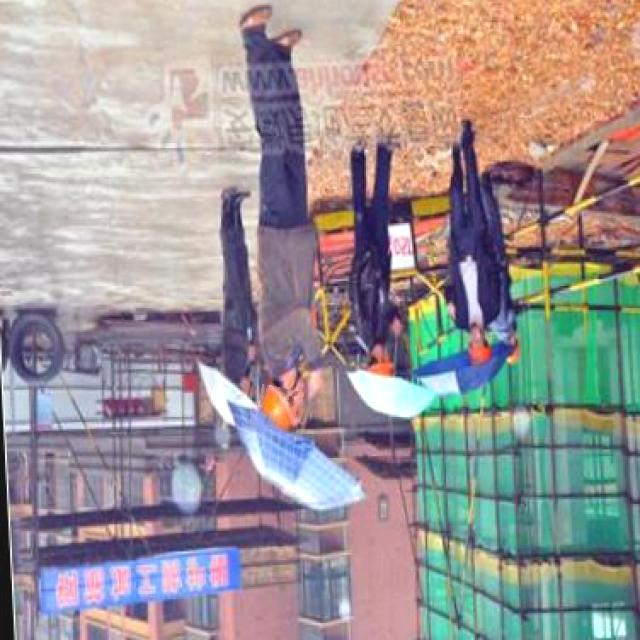helmet: (255, 386, 302, 433)
